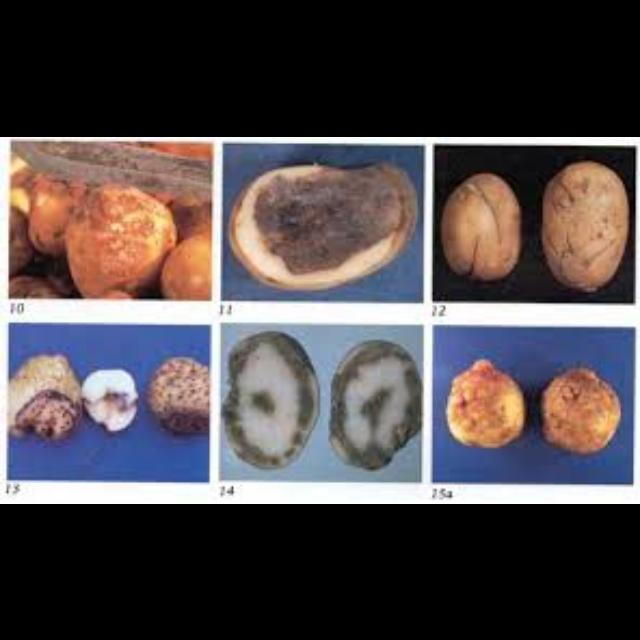Defected potato: (62, 177, 182, 295), (542, 154, 628, 294), (442, 160, 522, 288), (534, 356, 620, 460), (450, 345, 522, 459), (5, 346, 80, 448), (142, 348, 216, 448), (156, 229, 218, 303)
